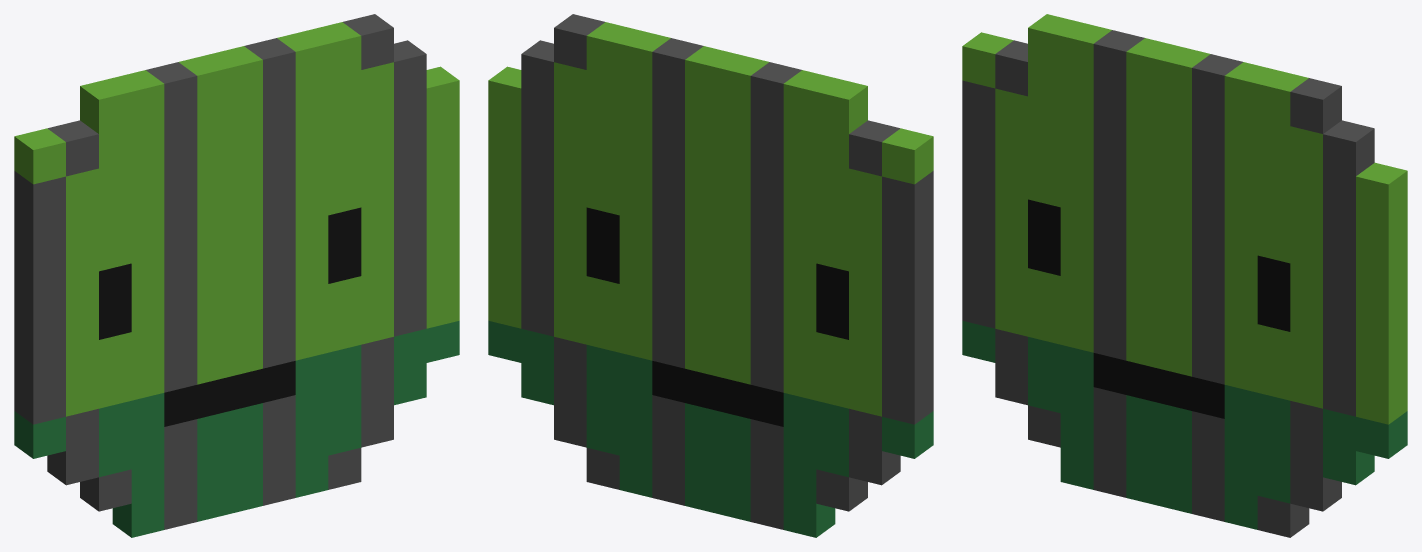
The model's file is swhale-0.obj.
3 renders of one model, left to right at view 1: azimuth 30°, elevation 25°; view 2: azimuth 150°, elevation 25°; view 3: azimuth 330°, elevation 25°, orthographic.
Size of the model in its own units: 1.3 by 1.3 by 0.1.
Materials: 1 (1 with a texture image).
